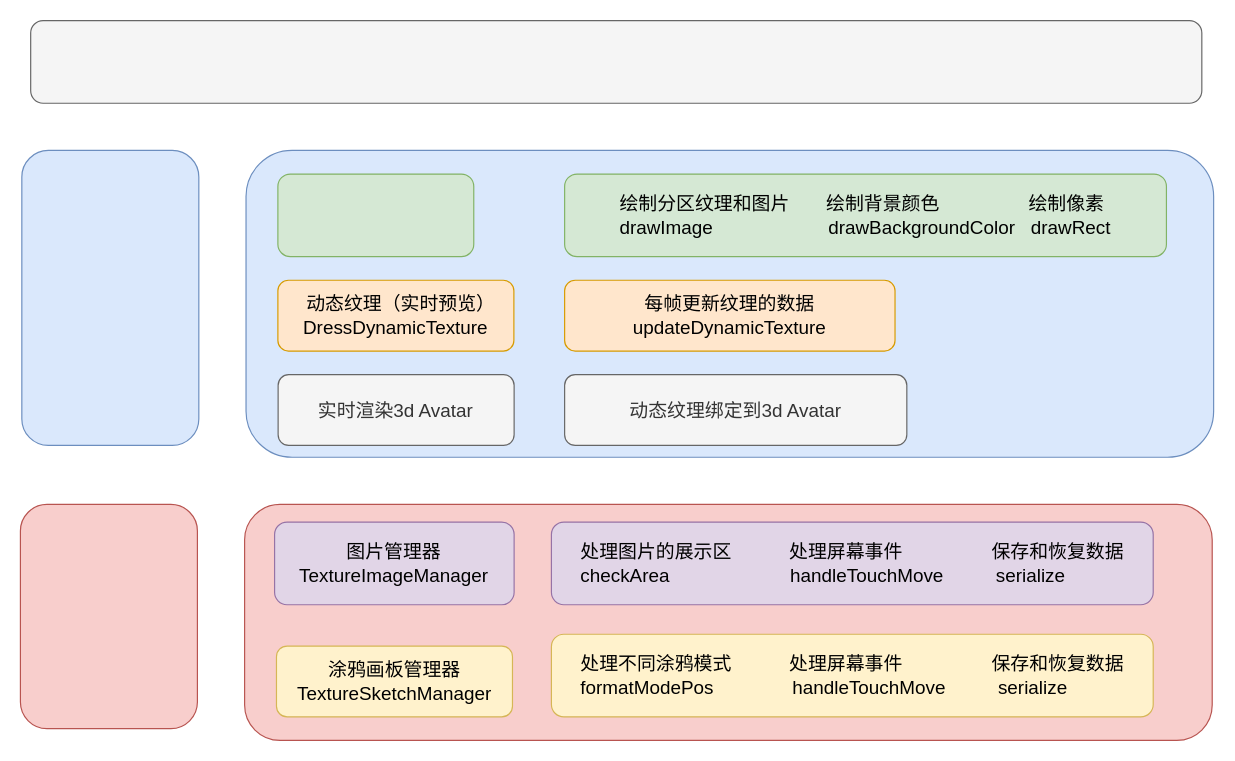
Some shapes in this 1235 by 761 pixel diagram are drawn without their labels. The shapes that lost their labels are listed below. From the top down, each one's centre as x and y in pixels, then its label:
At (616,61): "纹理画布管理器 TextureCanvasManager".
At (375,215): "2D画布 sketchCanvas".
At (110,297): "展示层".
At (108,616): "数据层".
